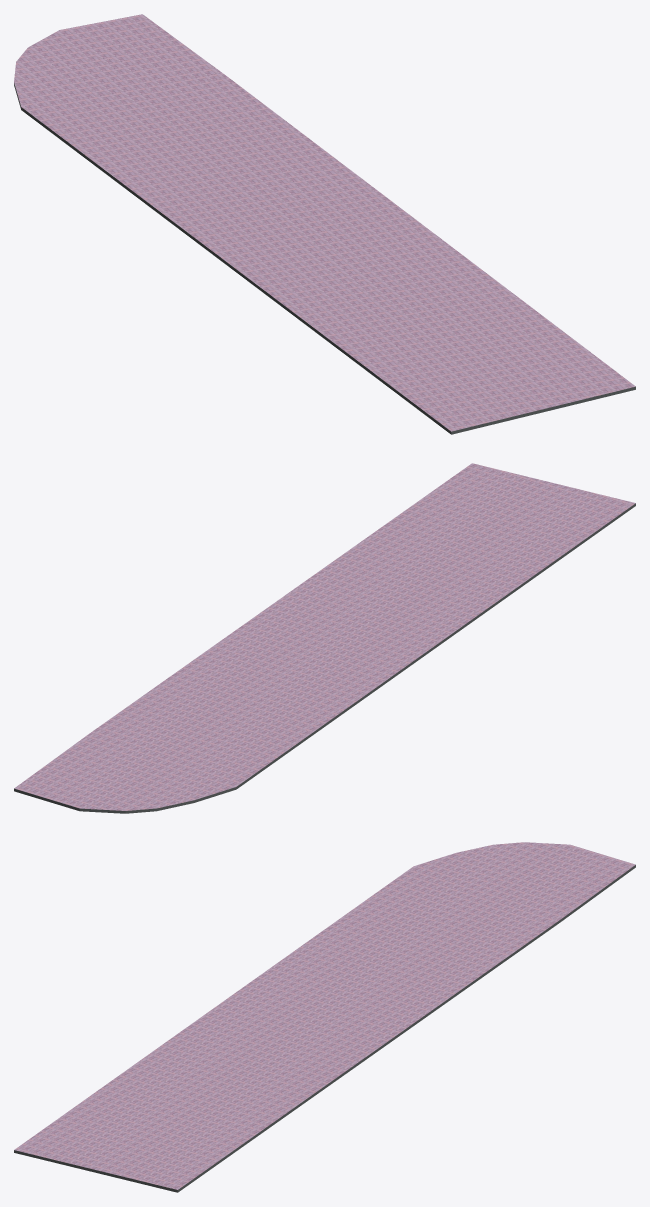
The model's file is site_skp1.obj.
3 renders of one model, top to bottom at view 1: azimuth 30°, elevation 25°; view 2: azimuth 150°, elevation 25°; view 3: azimuth 330°, elevation 25°, orthographic. The views are drawn at different scales.
Parts seen in each view (by area): view 1: Mesh1 Group1 Model; view 2: Mesh1 Group1 Model; view 3: Mesh1 Group1 Model.
Part boxes in pixels (left/top/right/bottom): Mesh1 Group1 Model: left=14, top=14, right=635, bottom=434; Mesh1 Group1 Model: left=14, top=463, right=635, bottom=813; Mesh1 Group1 Model: left=14, top=842, right=635, bottom=1192.
Size of the model in its own units: 6.57 by 0.1 by 29.57.
